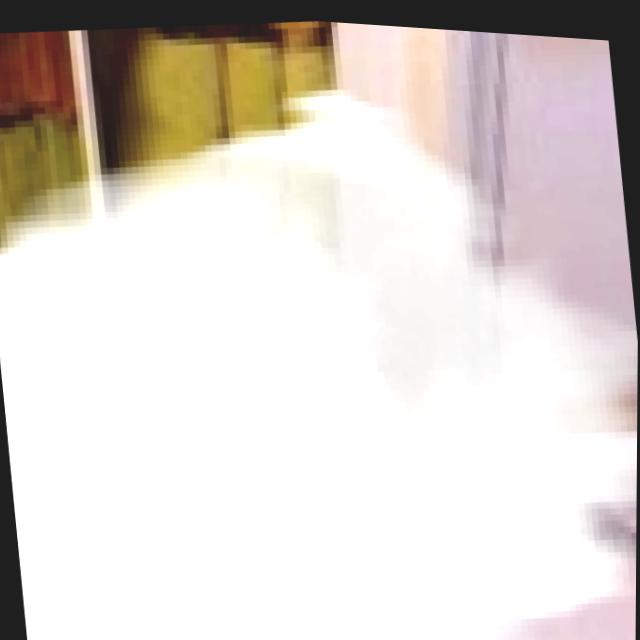smoke: (0, 31, 640, 640)
